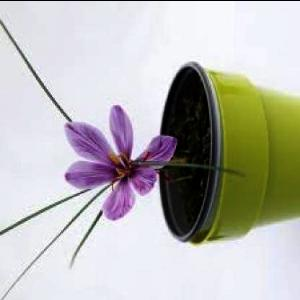Saffron: (65, 105, 177, 226)
